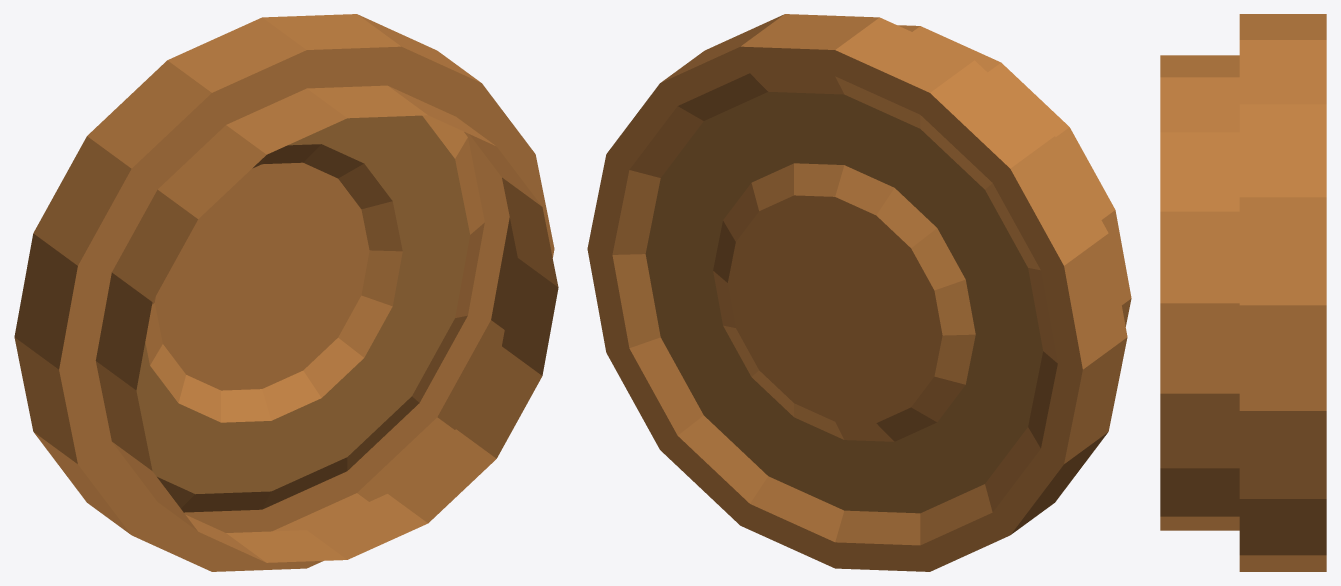
File: Rodeta.fbx
3 renders of one model, left to right at view 1: azimuth 30°, elevation 25°; view 2: azimuth 150°, elevation 25°; view 3: azimuth 270°, elevation 25°, orthographic. The views are drawn at different scales.
Visible parts, largest first — view 1: rodeta; view 2: rodeta; view 3: rodeta.
Boxes of the visible parts, x1=… form: rodeta: x1=14, y1=14, x2=558, y2=571; rodeta: x1=587, y1=14, x2=1131, y2=571; rodeta: x1=1160, y1=14, x2=1326, y2=571.
Size of the model in its own units: 2.98 by 0.8894 by 2.98.
